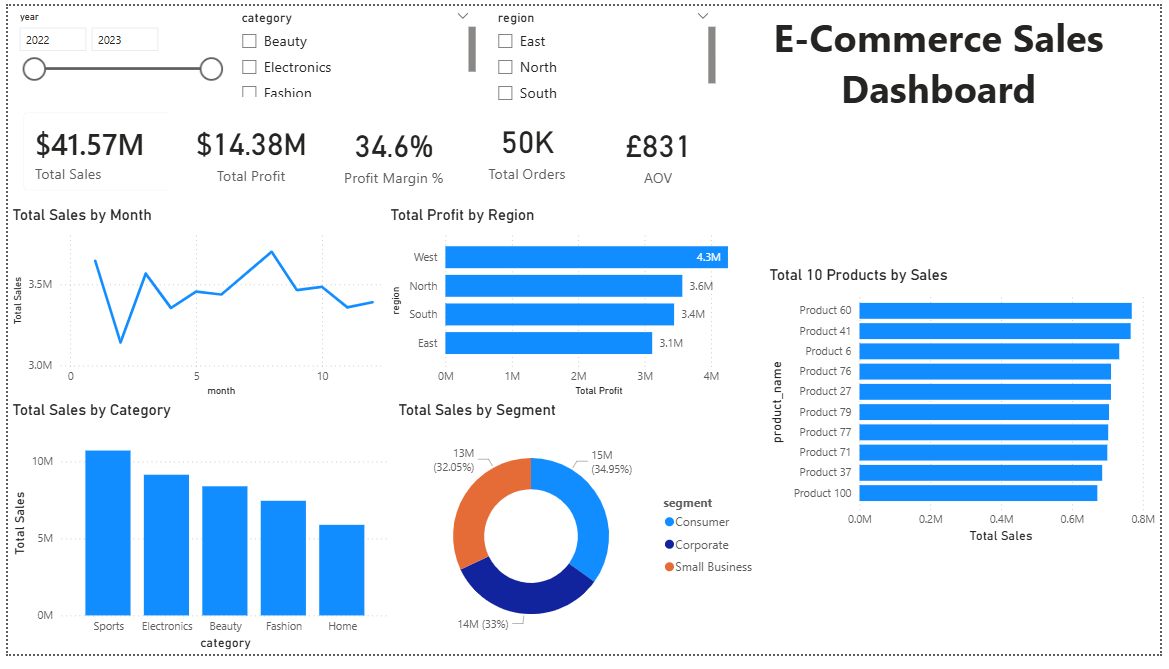

This screenshot's page, from the dashboard's own definition file:
{"tool":"powerbi","page":{"name":"Page 1","canvas":[1280,720],"ordinal":0},"visuals":[{"type":"cardVisual","fields":{"Data":["Sales.Total Sales"]},"box":[0,101.2,201.2,121.2],"z":0},{"type":"lineChart","title":"Total Sales by Month","fields":{"Y":["Sales.Total Sales"],"Category":["Calendar.month"]},"box":[0,222.5,420,216.2],"z":1000},{"type":"clusteredColumnChart","title":"Total Sales by Category","fields":{"Category":["Products.category"],"Y":["Sales.Total Sales"]},"box":[0,438.8,428.8,281.2],"z":2000},{"type":"clusteredBarChart","title":"Total Profit by Region","fields":{"Category":["Customers.region"],"Y":["Sales.Total Profit"]},"box":[420,222.5,421.2,216.2],"z":3000},{"type":"clusteredBarChart","title":"Total 10 Products by Sales","fields":{"Category":["Products.product_name"],"Y":["Sales.Total Sales"]},"box":[841.2,288.8,438.8,312.5],"z":4000},{"type":"donutChart","title":"Total Sales by Segment","fields":{"Category":["Customers.segment"],"Y":["Sales.Total Sales"]},"box":[428.8,438.8,412.5,281.2],"z":5000},{"type":"slicer","fields":{"Values":["Calendar.year"]},"box":[0,0,246.2,113.8],"z":6000},{"type":"slicer","fields":{"Values":["Products.category"]},"box":[246.2,0,277.5,113.8],"z":7000},{"type":"slicer","fields":{"Values":["Customers.region"]},"box":[531.2,0,260,113.8],"z":8000},{"type":"card","fields":{"Values":["Sales.Total Profit"]},"box":[178.8,101.2,182.5,121.2],"z":8001},{"type":"card","fields":{"Values":["Sales.Profit Margin %"]},"box":[345,113.8,166.2,100],"z":8002},{"type":"card","fields":{"Values":["Sales.Total Orders"]},"box":[492.5,113.8,168.8,91.2],"z":8003},{"type":"card","fields":{"Values":["Sales.AOV"]},"box":[640,113.8,165,100],"z":8004},{"type":"textbox","box":[986,114,294,150],"z":8005},{"type":"textbox","box":[787.5,0,492.5,131.2],"z":8006}]}

Visuals, with their boxes in screenshot pixels (x1, y1, x2, y2), scaled from the page's 1280x720 canvas onto the 1169x669 screenshot:
cardVisual - Sales.Total Sales: {"left": 0, "top": 94, "right": 184, "bottom": 207}
"Total Sales by Month" lineChart: {"left": 0, "top": 207, "right": 384, "bottom": 408}
"Total Sales by Category" clusteredColumnChart: {"left": 0, "top": 408, "right": 392, "bottom": 668}
"Total Profit by Region" clusteredBarChart: {"left": 384, "top": 207, "right": 768, "bottom": 408}
"Total 10 Products by Sales" clusteredBarChart: {"left": 768, "top": 268, "right": 1168, "bottom": 559}
"Total Sales by Segment" donutChart: {"left": 392, "top": 408, "right": 768, "bottom": 668}
slicer - Calendar.year: {"left": 0, "top": 0, "right": 225, "bottom": 106}
slicer - Products.category: {"left": 225, "top": 0, "right": 478, "bottom": 106}
slicer - Customers.region: {"left": 485, "top": 0, "right": 723, "bottom": 106}
card - Sales.Total Profit: {"left": 163, "top": 94, "right": 330, "bottom": 207}
card - Sales.Profit Margin %: {"left": 315, "top": 106, "right": 467, "bottom": 199}
card - Sales.Total Orders: {"left": 450, "top": 106, "right": 604, "bottom": 190}
card - Sales.AOV: {"left": 584, "top": 106, "right": 735, "bottom": 199}
textbox: {"left": 900, "top": 106, "right": 1168, "bottom": 245}
textbox: {"left": 719, "top": 0, "right": 1168, "bottom": 122}
